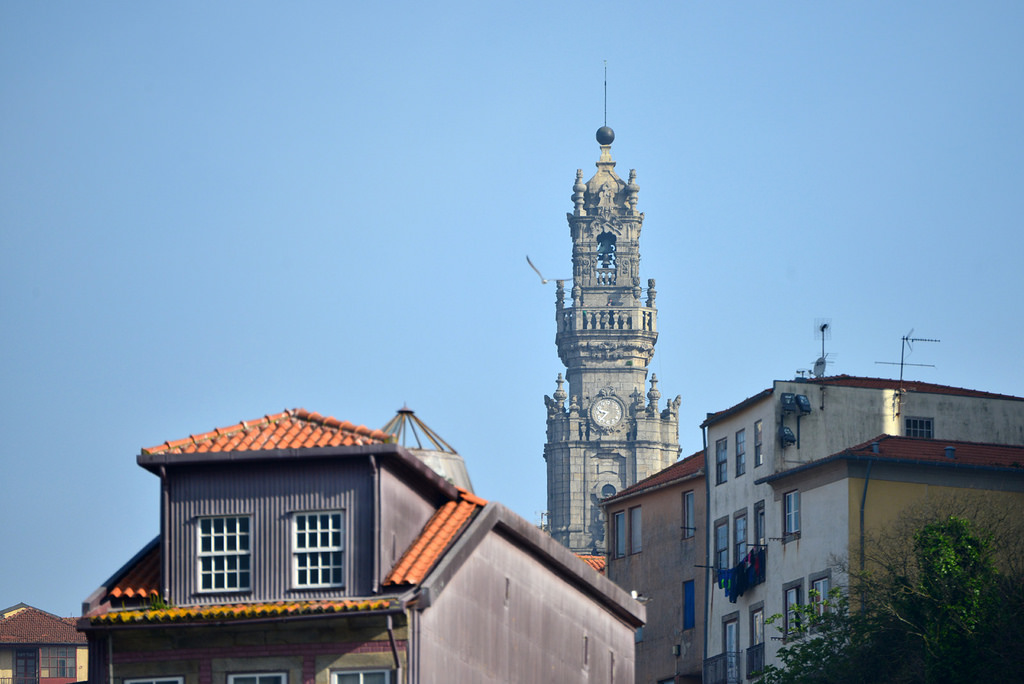clerigos: (543, 48, 682, 550)
